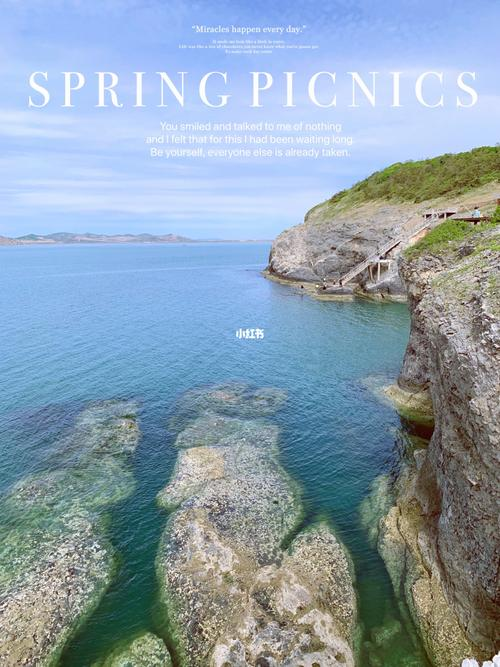mountain: (155, 379, 349, 627)
sea_river: (56, 288, 404, 631)
sky_cloud: (11, 37, 463, 207)
